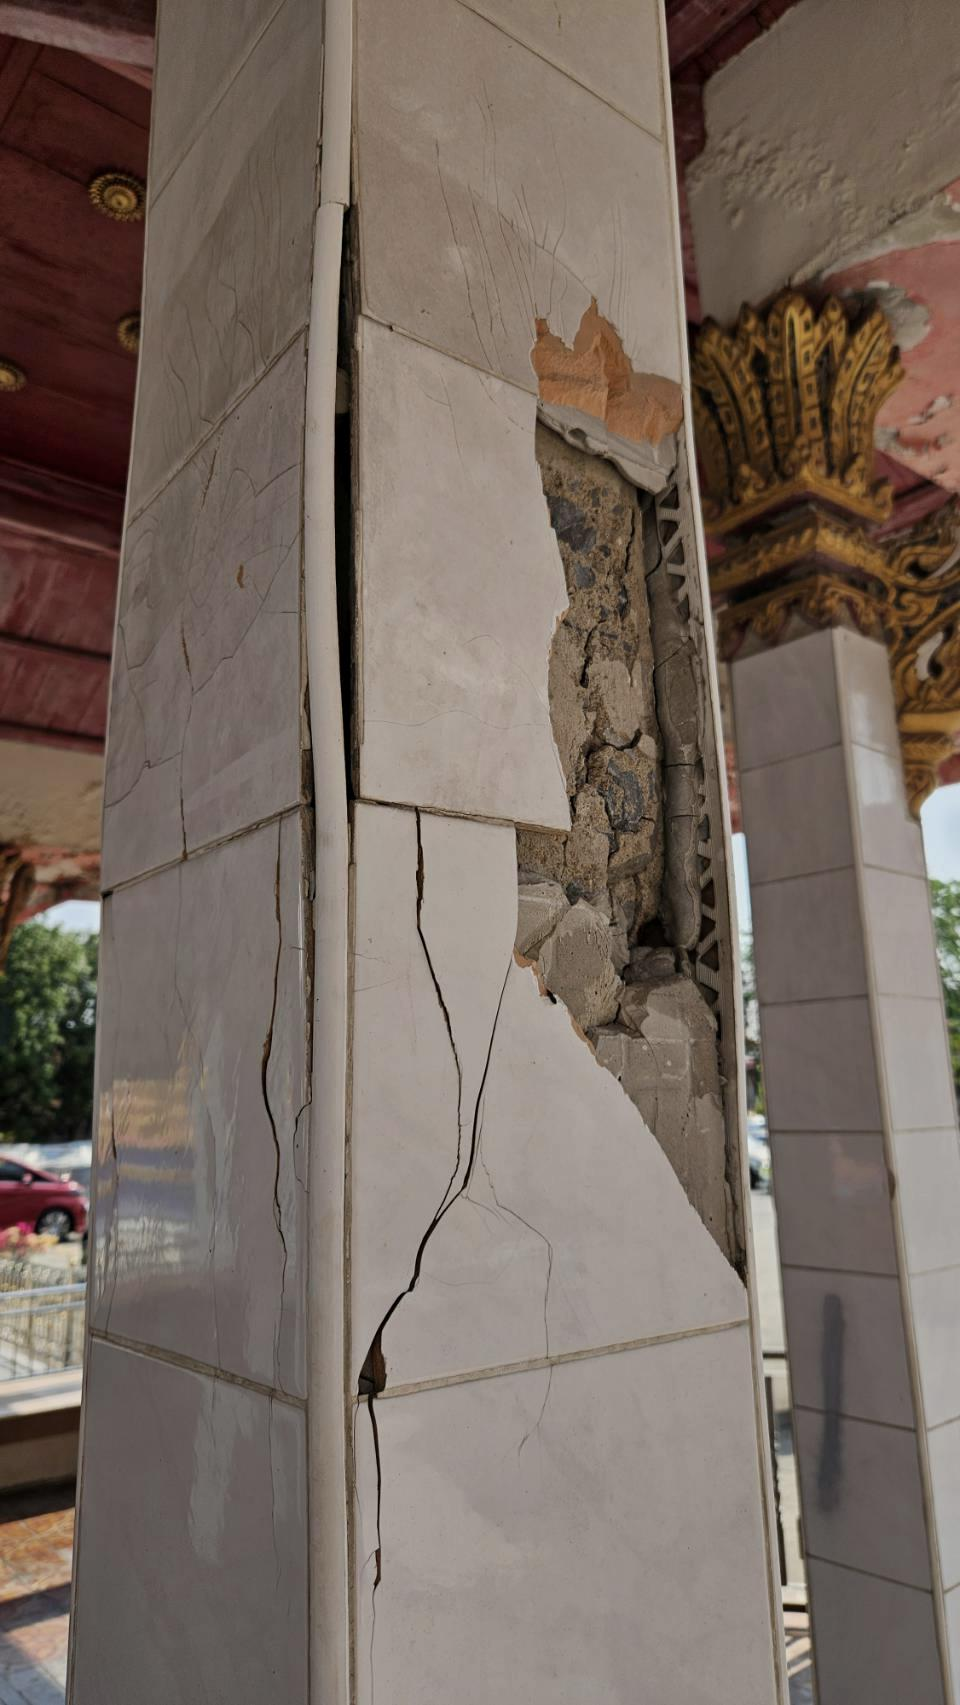High: (198, 187, 770, 1639)
